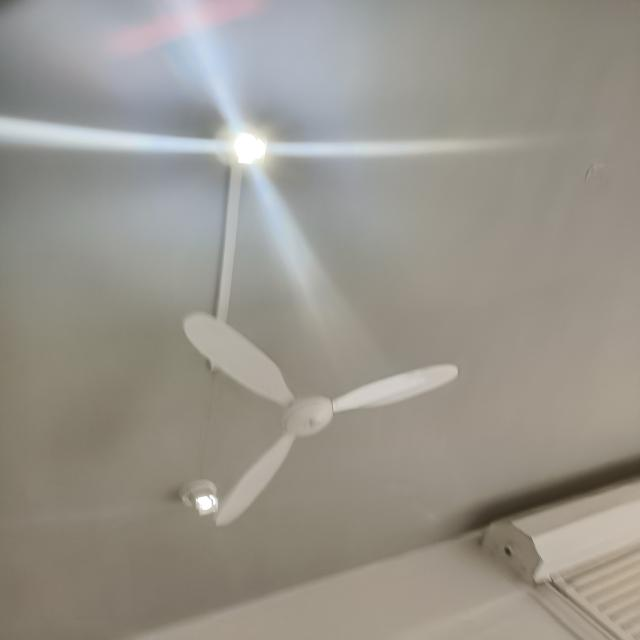light_on: (184, 108, 334, 193), (132, 472, 265, 526)
